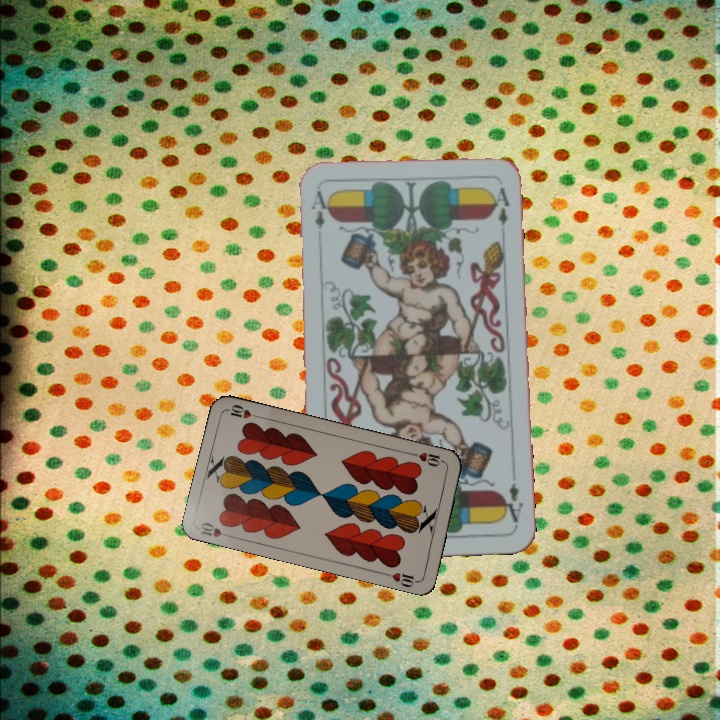EA: (499, 480, 526, 525), (307, 186, 328, 231)
H10: (195, 518, 236, 540), (408, 448, 448, 469)
